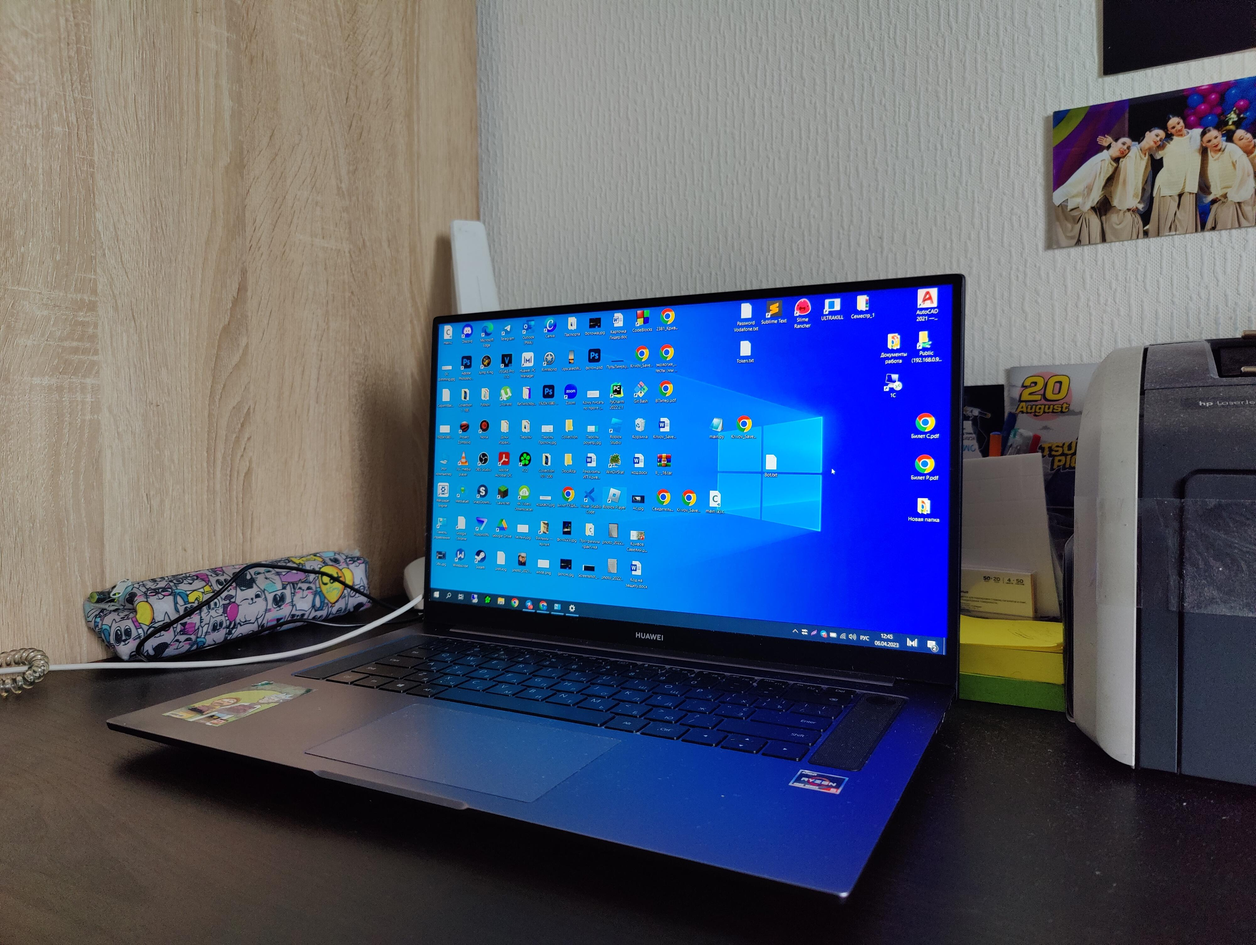monitor: (408, 267, 975, 694)
